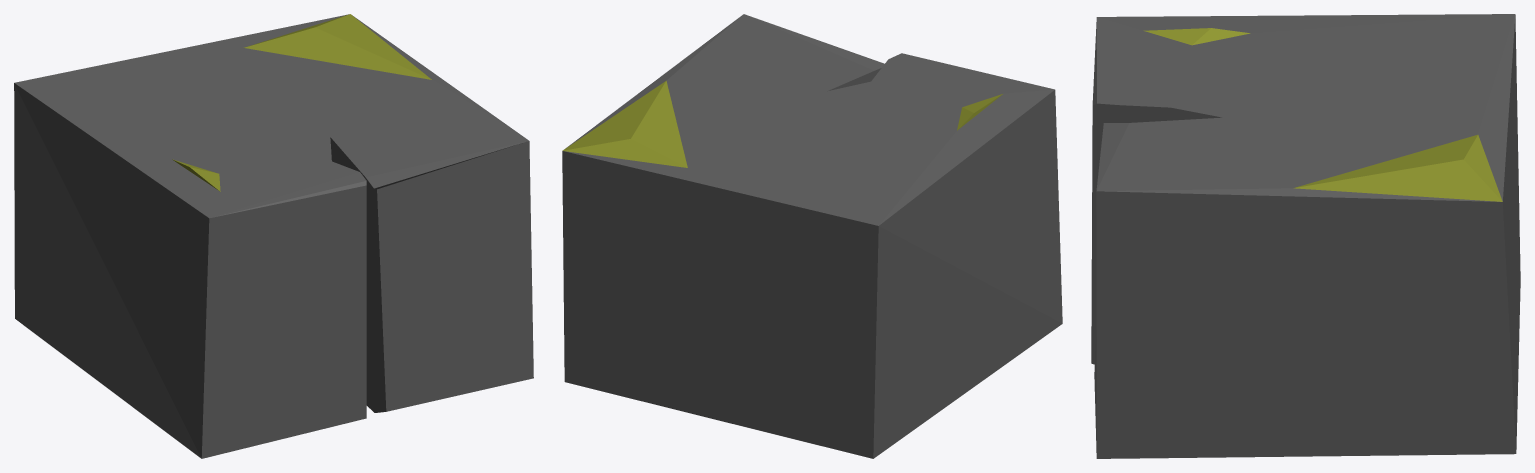
Rendered from tile_squared_moss_type_2_LOD3.fbx.
The picture shows the model from 3 angles, left to right: view 1: azimuth 30°, elevation 25°; view 2: azimuth 150°, elevation 25°; view 3: azimuth 270°, elevation 25°; orthographic projection. The views are drawn at different scales.
Visible parts, largest first — view 1: tile_squared_moss_type_2; view 2: tile_squared_moss_type_2; view 3: tile_squared_moss_type_2.
Boxes of the visible parts, x1=… form: tile_squared_moss_type_2: x1=14, y1=14, x2=533, y2=458; tile_squared_moss_type_2: x1=562, y1=14, x2=1062, y2=458; tile_squared_moss_type_2: x1=1091, y1=14, x2=1520, y2=458.
Bounding box in the file's own units: 116 × 81.94 × 116.
